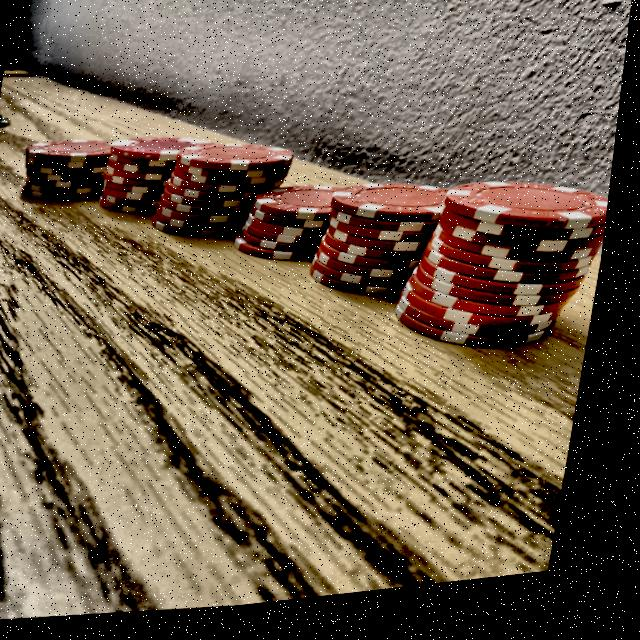Chip: (382, 159, 616, 397), (294, 174, 475, 335), (135, 117, 317, 274), (231, 172, 367, 288), (90, 126, 222, 236), (12, 127, 126, 220)
